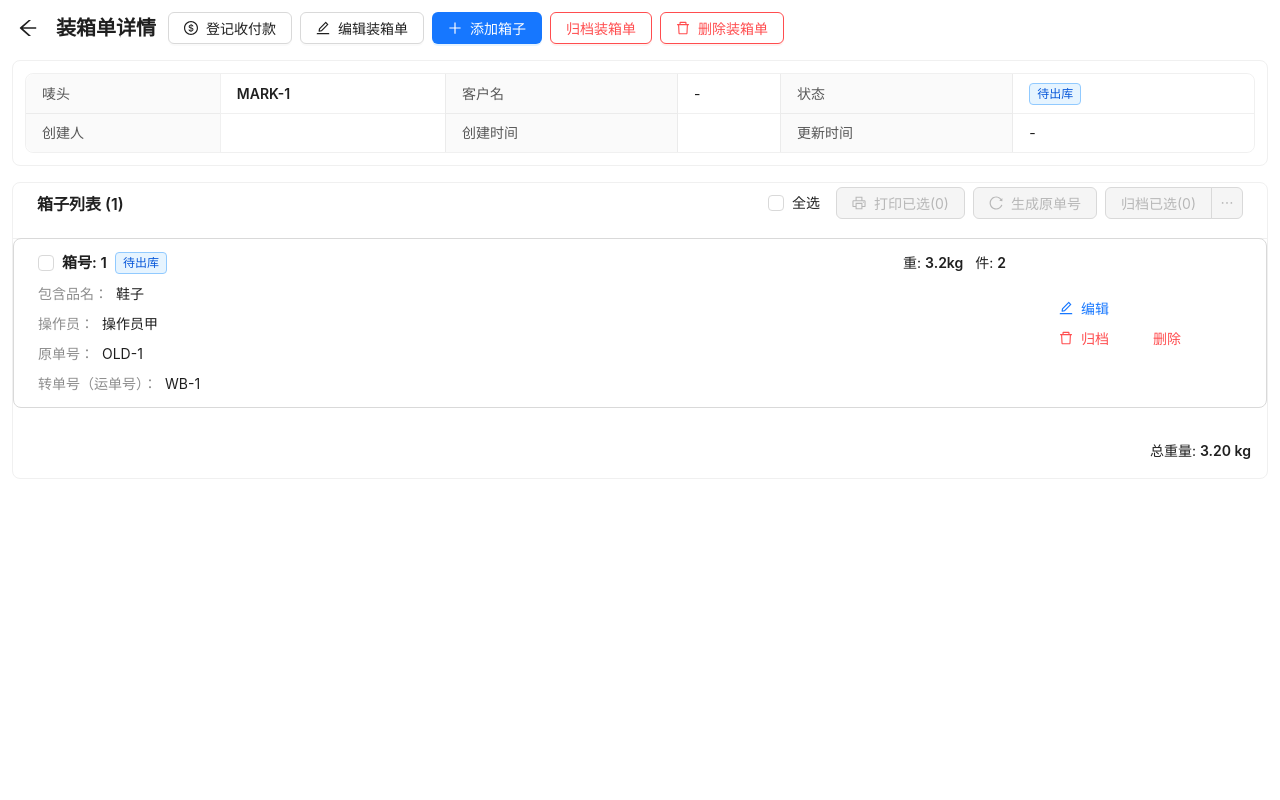
Scenario: pending boxes have no undo shipment action and remain weighable
Check: the text "MARK-1" is shown, box [237,84,290,102]
Click the button "编辑". click: x=1084, y=308
box: [1054,294,1114,322]
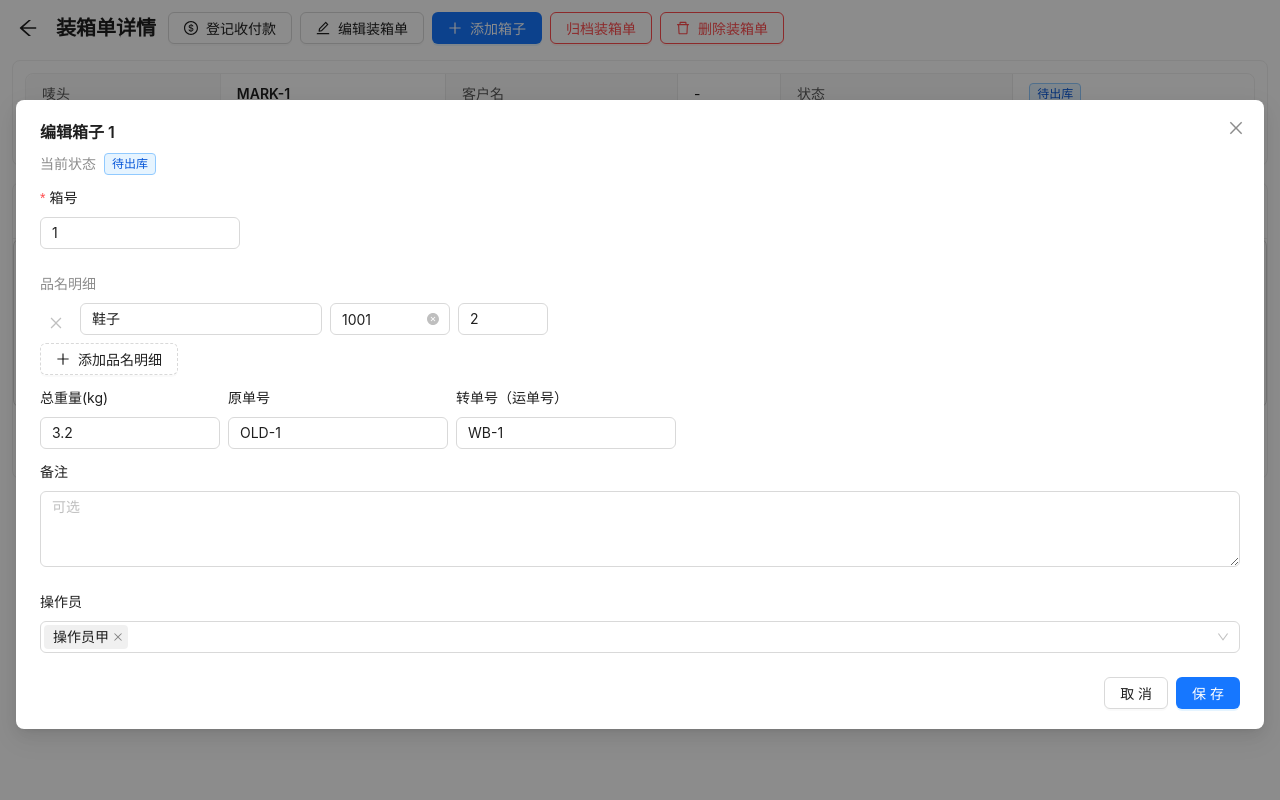
Check: the number field showing "1" is enabled, box [41,218,239,248]
Check: the field showing "OLD-1" is enabled, box [228,417,448,449]
Check: the number field showing "3.2" is enabled, box [41,418,219,448]
